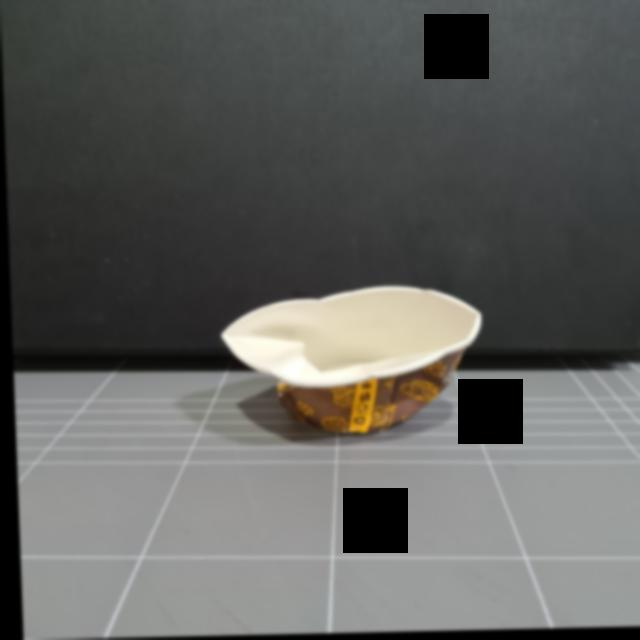cups: (211, 280, 489, 448)
